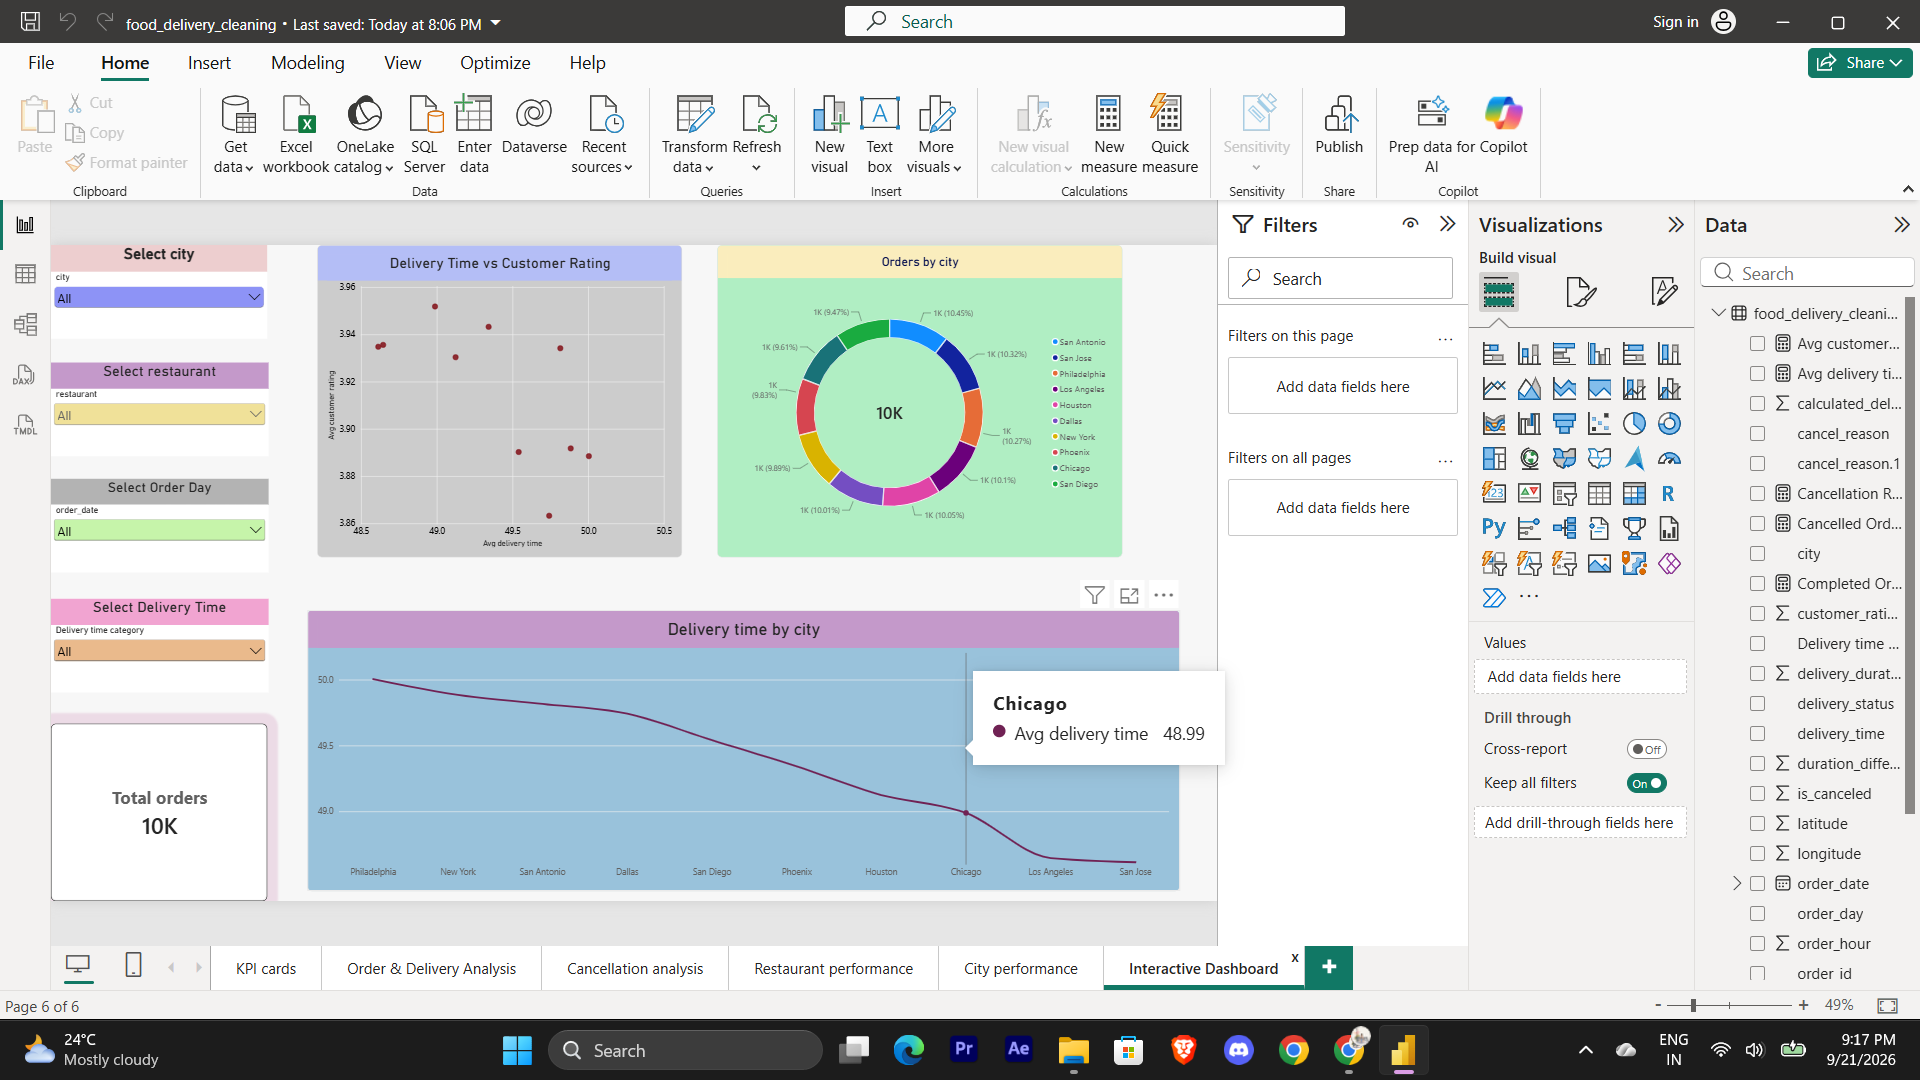

The dashboard page shown, as its layout file describes it:
{"tool":"powerbi","page":{"name":"Interactive Dashboard","canvas":[1920,1080],"ordinal":5},"visuals":[{"type":"slicer","title":"Select city","fields":{"Values":["food_delivery_cleaning.city"]},"box":[0,0,356.1,154.4],"z":0},{"type":"slicer","title":"Select Order Day","fields":{"Values":["food_delivery_cleaning.order_date"]},"box":[0,384.9,358.1,154.4],"z":1},{"type":"slicer","title":"Select Delivery Time","fields":{"Values":["food_delivery_cleaning.Delivery time category"]},"box":[0,582.5,358.1,154.4],"z":2},{"type":"slicer","title":"Select restaurant","fields":{"Values":["food_delivery_cleaning.restaurant"]},"box":[0,193.5,358.1,154.4],"z":3},{"type":"cardVisual","fields":{"Data":["food_delivery_cleaning.Total orders"]},"box":[0,788.3,356.1,292.3],"z":4},{"type":"donutChart","title":"Orders by city","fields":{"Category":["food_delivery_cleaning.city"],"Y":["food_delivery_cleaning.Total orders"]},"box":[1097.1,0,666.9,514.6],"z":5},{"type":"lineChart","title":"Delivery time by city","fields":{"Category":["food_delivery_cleaning.city"],"Y":["food_delivery_cleaning.Avg delivery time"]},"box":[422,601,1436.7,463.1],"z":6},{"type":"scatterChart","title":"Delivery Time vs Customer Rating","fields":{"X":["food_delivery_cleaning.Avg delivery time"],"Y":["food_delivery_cleaning.Avg customer rating"],"Category":["food_delivery_cleaning.city"]},"box":[438.4,0,601,514.6],"z":7}]}

Visuals, with their boxes on the page's 1920x1080 design canvas (x1, y1, x2, y2). These are canvas units, not pixel positions in the 1920x1080 screenshot, which may show the page scaled, cropped or inside an application window:
"Select city" slicer: Rect(0, 0, 356, 154)
"Select Order Day" slicer: Rect(0, 385, 358, 539)
"Select Delivery Time" slicer: Rect(0, 582, 358, 737)
"Select restaurant" slicer: Rect(0, 194, 358, 348)
cardVisual - food_delivery_cleaning.Total orders: Rect(0, 788, 356, 1081)
"Orders by city" donutChart: Rect(1097, 0, 1764, 515)
"Delivery time by city" lineChart: Rect(422, 601, 1859, 1064)
"Delivery Time vs Customer Rating" scatterChart: Rect(438, 0, 1039, 515)
